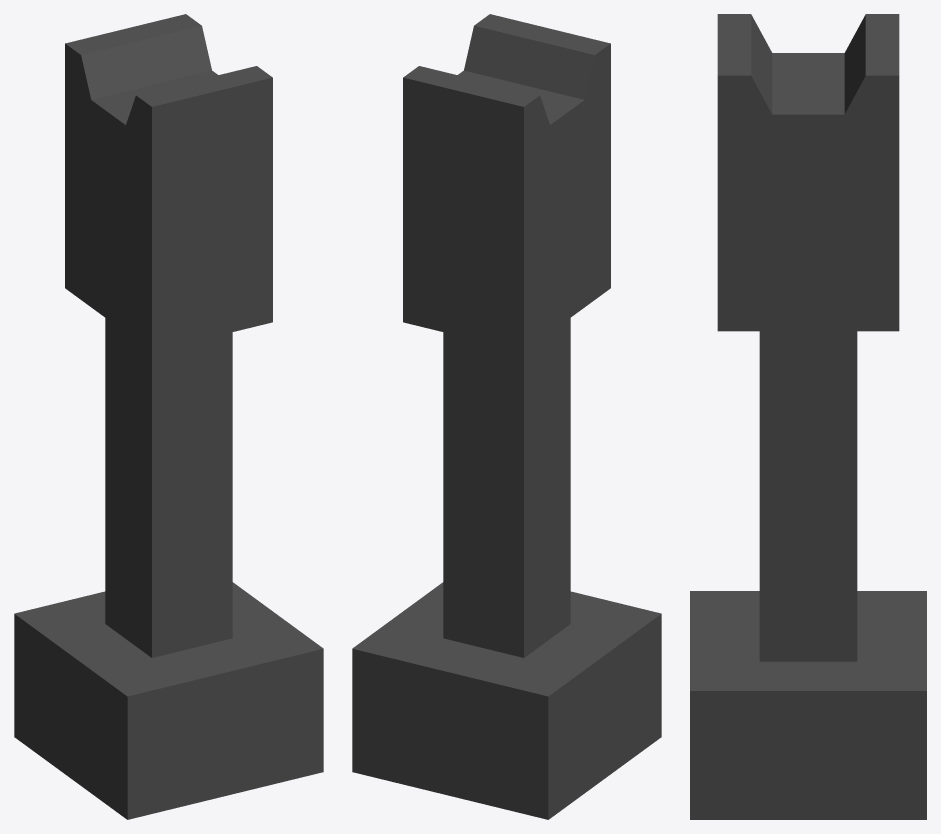
Rendered from SM_Prop_Road_Barrier_Base_01.glb.
3 views of the same model, side by side, from view 1: azimuth 30°, elevation 25°; view 2: azimuth 150°, elevation 25°; view 3: azimuth 270°, elevation 25° (orthographic). The views are drawn at different scales.
Visible parts, largest first — view 1: SM_Prop_Road_Barrier_Base_01; view 2: SM_Prop_Road_Barrier_Base_01; view 3: SM_Prop_Road_Barrier_Base_01.
Boxes of the visible parts, x1,y1,x2,y2 form: SM_Prop_Road_Barrier_Base_01: (14, 14, 323, 819); SM_Prop_Road_Barrier_Base_01: (352, 14, 661, 819); SM_Prop_Road_Barrier_Base_01: (690, 14, 926, 819).
Size of the model in its own units: 0.3878 by 1.31 by 0.3878.
1 material, 1 textured.
